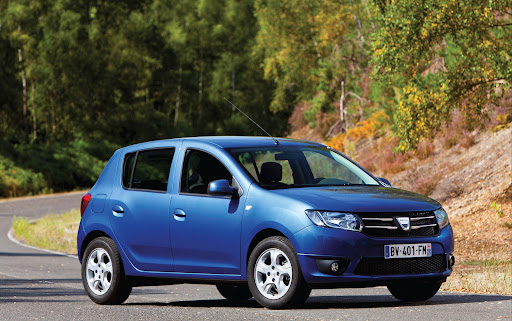car: (74, 132, 453, 310)
